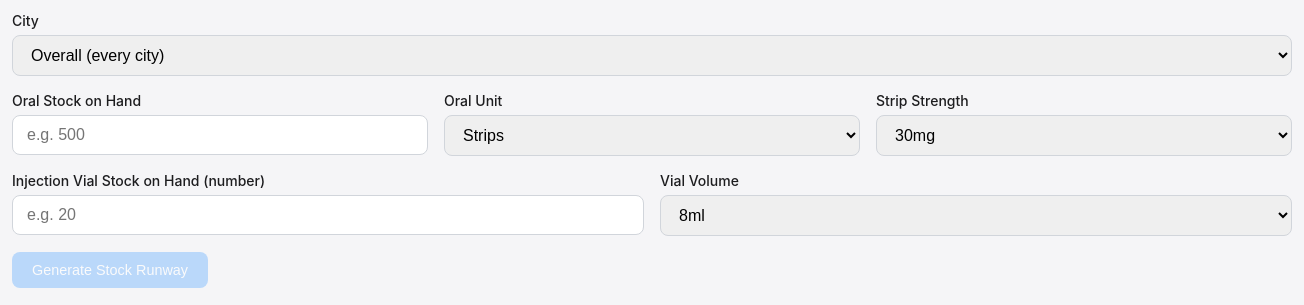
Test: StockRunwayReport — form interaction › entering an oral stock value enables Generate
This screenshot has width=1304, height=305.
Type "50" into the number field labelled "Oral Stock on Hand" at (220, 135), box [12,115,428,155]
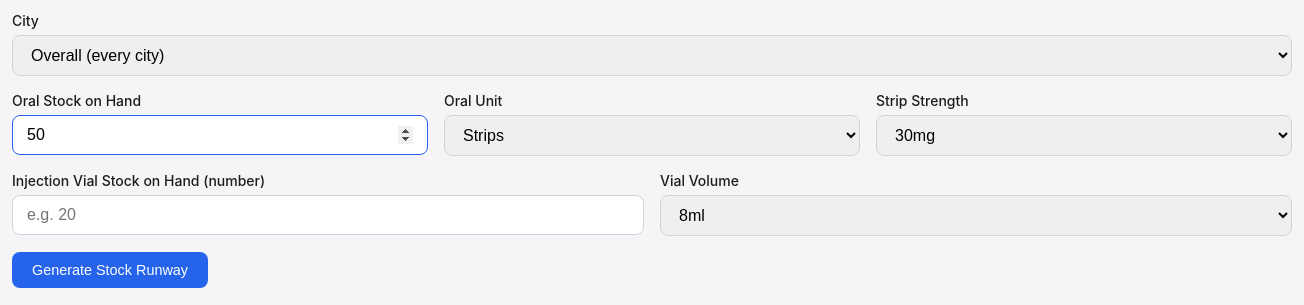
Check: the button "Generate Stock Runway" is enabled, box [12,252,208,288]
